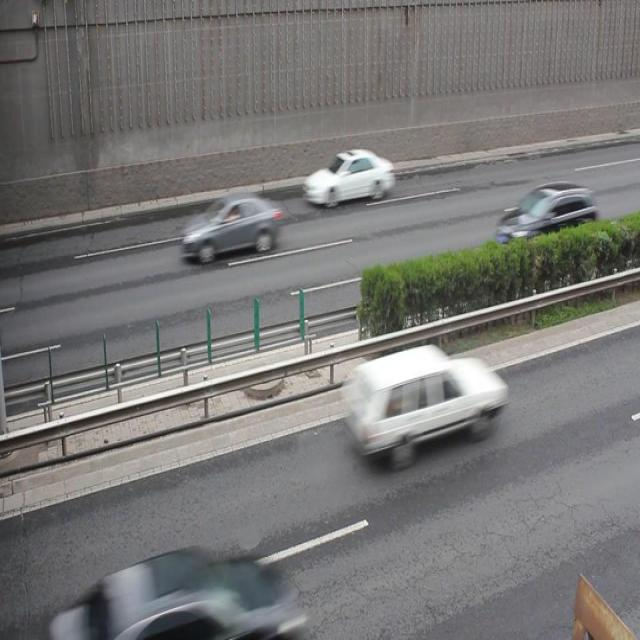car: (55, 546, 297, 640), (342, 343, 506, 464), (493, 182, 596, 252), (181, 192, 279, 258), (304, 148, 394, 206)
